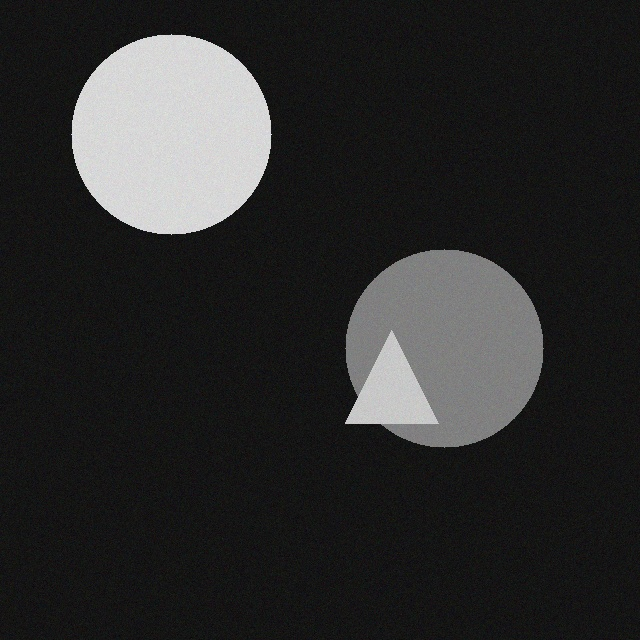circle: (82, 35, 282, 235), (356, 250, 554, 448)
triangle: (356, 331, 449, 424)
